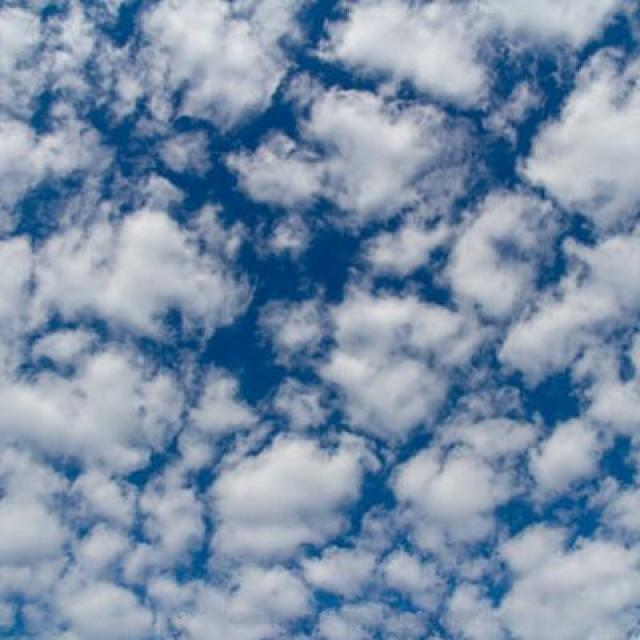St: (47, 1, 640, 534)
